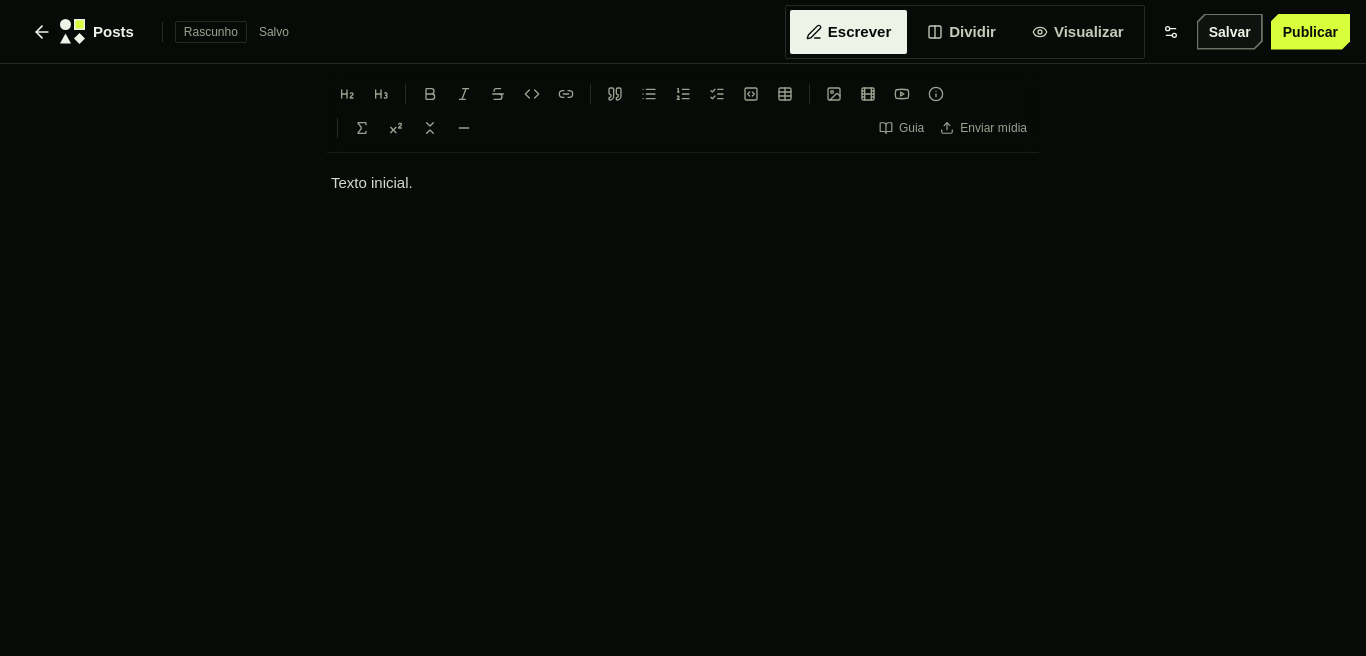
erros ao salvar › slug em uso abre as configurações para escolher outra URL
This screenshot has width=1366, height=656.
(page scrolled)
Replace the text in the text box named "Conteúdo do post em Markdown" with "x" at (683, 400), box [331,169,1035,630]
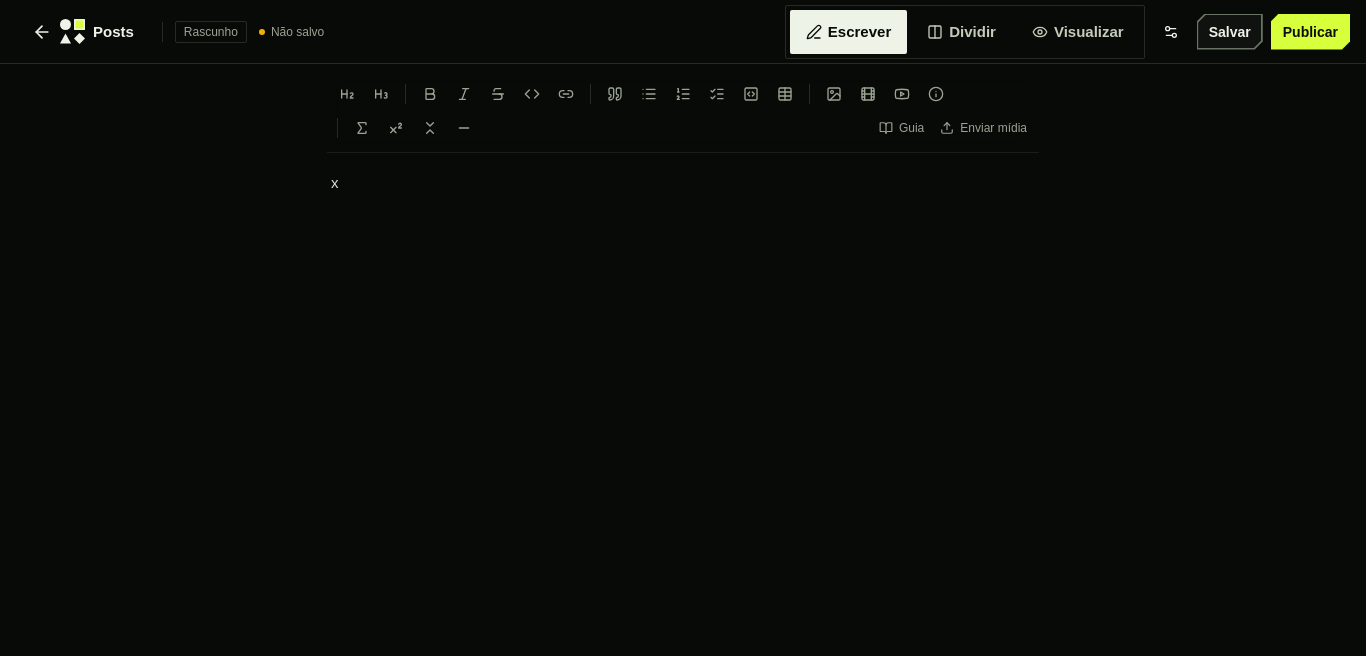
Click the button "Salvar" at (1230, 32), box [1197,14,1263,50]
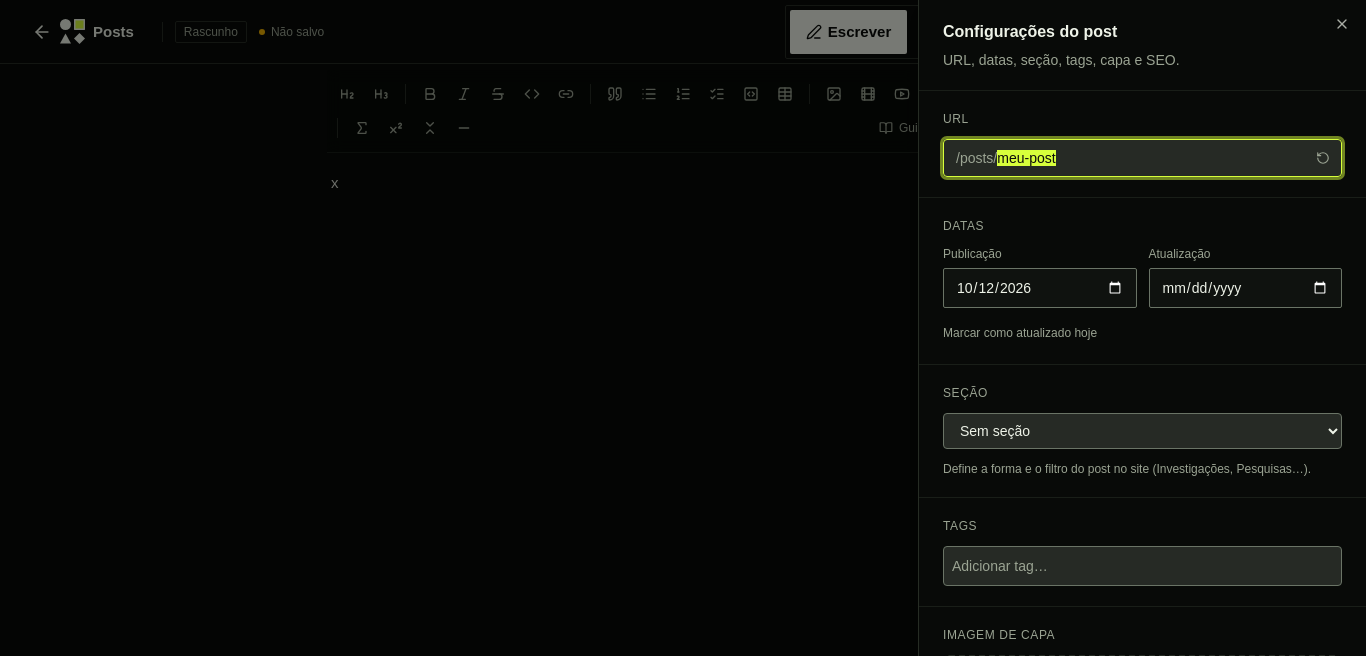
Expected: the heading "Configurações do post" is shown, [943,23,1117,40]
